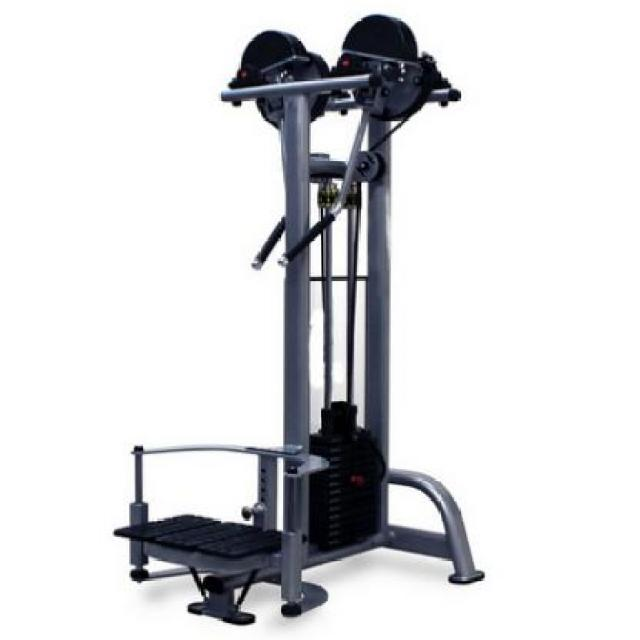lateral raises machine: (111, 15, 486, 628)
